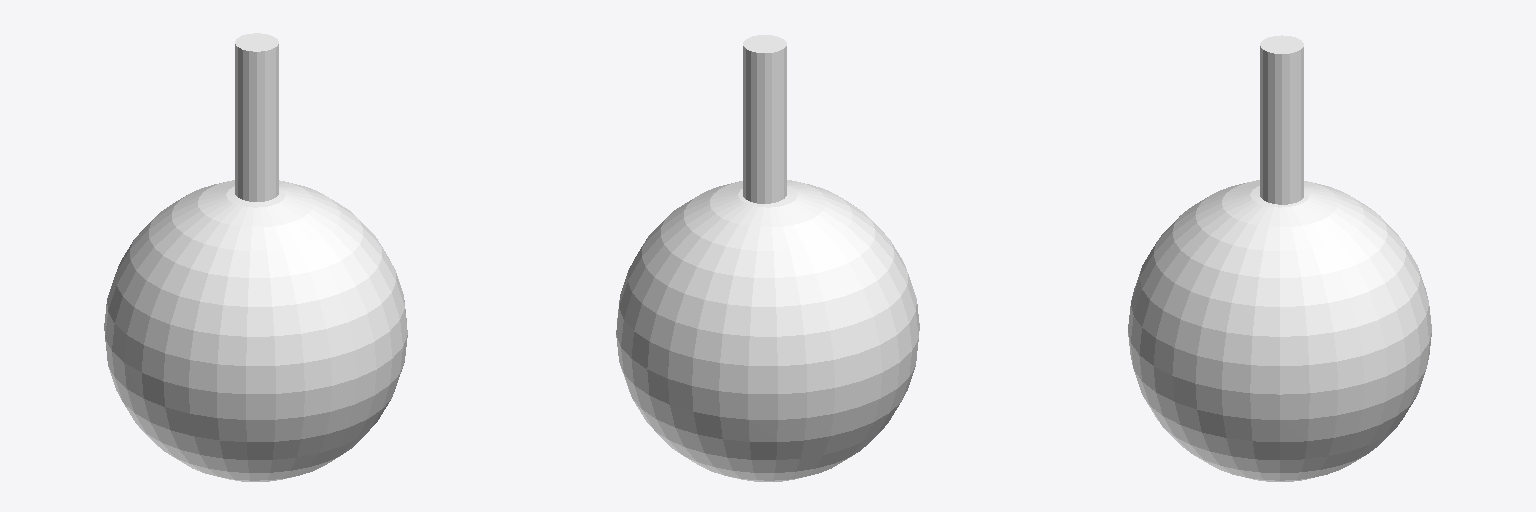
The model's file is AAgun.obj.
3 renders of one model, left to right at view 1: azimuth 30°, elevation 25°; view 2: azimuth 150°, elevation 25°; view 3: azimuth 270°, elevation 25°, orthographic.
Visible parts, largest first — view 1: Sphere001, Cylinder001; view 2: Sphere001, Cylinder001; view 3: Sphere001, Cylinder001.
Part boxes in pixels (x1,y1,x2,y2): Sphere001: (104,180,407,481); Cylinder001: (235,33,278,201); Sphere001: (616,180,919,481); Cylinder001: (743,35,786,203); Sphere001: (1128,180,1431,481); Cylinder001: (1260,35,1303,204).
Size of the model in its own units: 20 by 30.77 by 20.